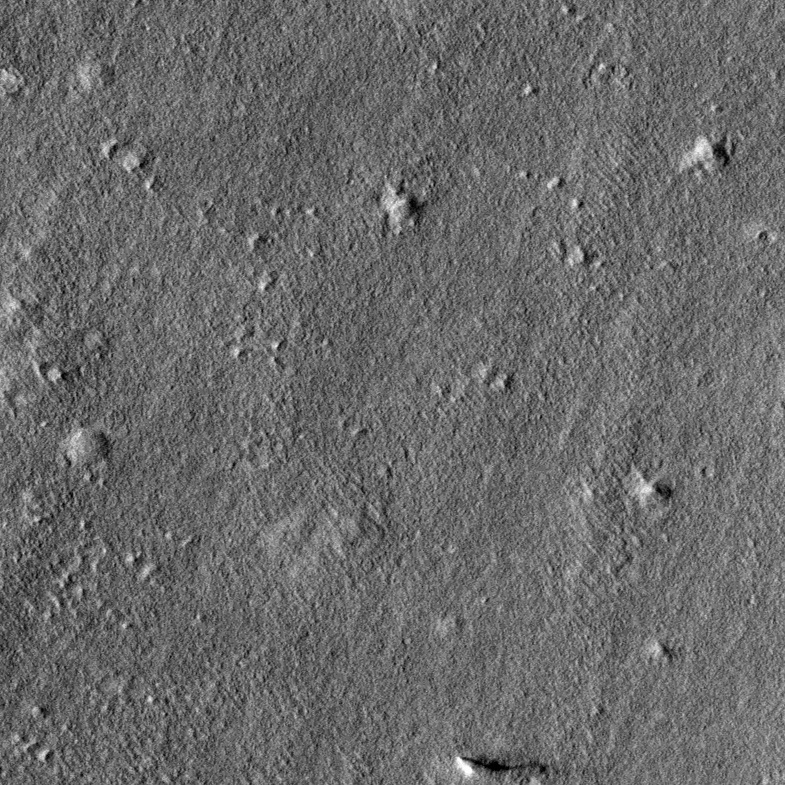dust_devil: (454, 754, 549, 779)
